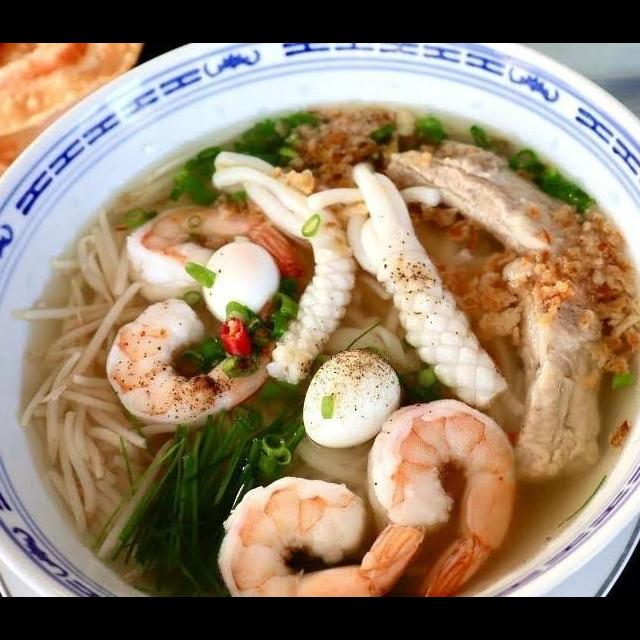muc: (333, 156, 512, 412), (206, 146, 362, 388)
thit bam: (260, 96, 404, 187)
thit heo: (374, 117, 592, 263), (498, 241, 610, 489)
tom: (358, 390, 524, 597), (205, 465, 436, 597), (99, 284, 298, 435), (117, 195, 316, 301)
trung: (298, 345, 406, 454), (196, 236, 284, 329)
